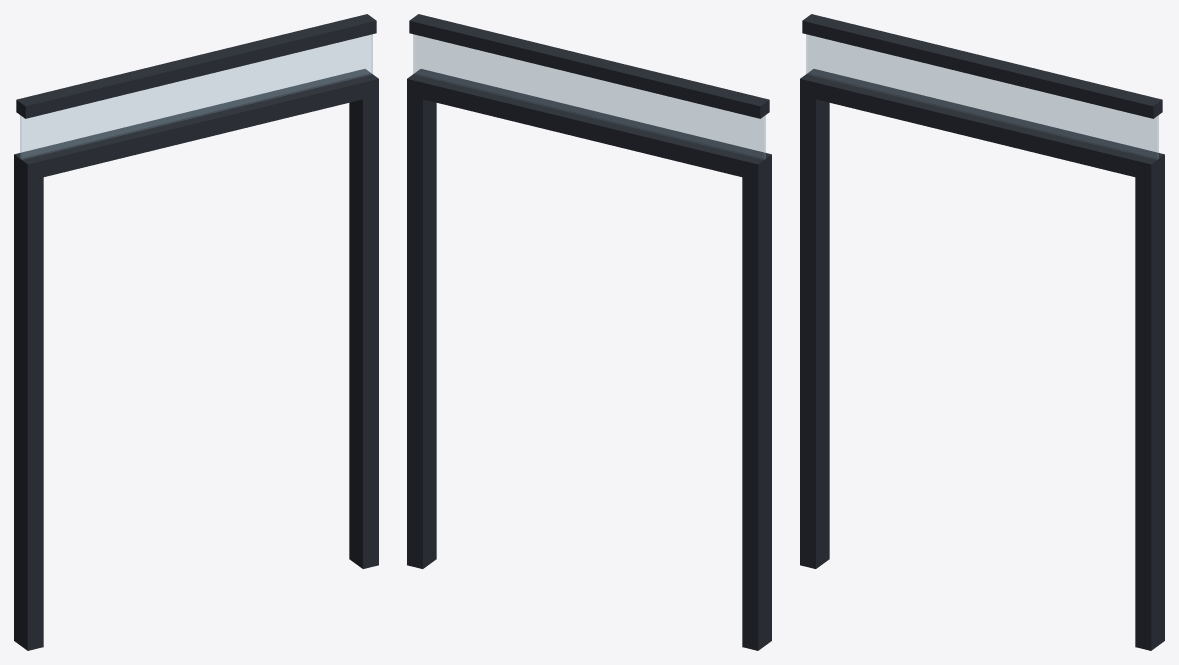
File: DoorFrame_1m6.fbx
3 renders of one model, left to right at view 1: azimuth 30°, elevation 25°; view 2: azimuth 150°, elevation 25°; view 3: azimuth 330°, elevation 25°, orthographic.
Parts seen in each view (by area): view 1: Transom, Jamb, Jamb.001, Header, TopRail.001; view 2: Transom, Jamb, Jamb.001, Header, TopRail.001; view 3: Transom, Jamb.001, Jamb, Header, TopRail.001.
Boxes of the visible parts, left/top/right/bottom form: Transom: left=20, top=34, right=372, bottom=159; Jamb: left=14, top=171, right=43, bottom=650; Jamb.001: left=349, top=95, right=378, bottom=568; Header: left=14, top=69, right=378, bottom=180; TopRail.001: left=16, top=14, right=376, bottom=118; Transom: left=413, top=34, right=765, bottom=159; Jamb: left=742, top=171, right=771, bottom=650; Jamb.001: left=407, top=95, right=436, bottom=568; Header: left=407, top=69, right=771, bottom=180; TopRail.001: left=409, top=14, right=769, bottom=118; Transom: left=806, top=34, right=1158, bottom=159; Jamb.001: left=1135, top=171, right=1164, bottom=650; Jamb: left=800, top=95, right=829, bottom=568; Header: left=800, top=69, right=1164, bottom=180; TopRail.001: left=802, top=14, right=1162, bottom=118.
Size of the model in its own units: 1.76 by 2.6 by 0.12.
